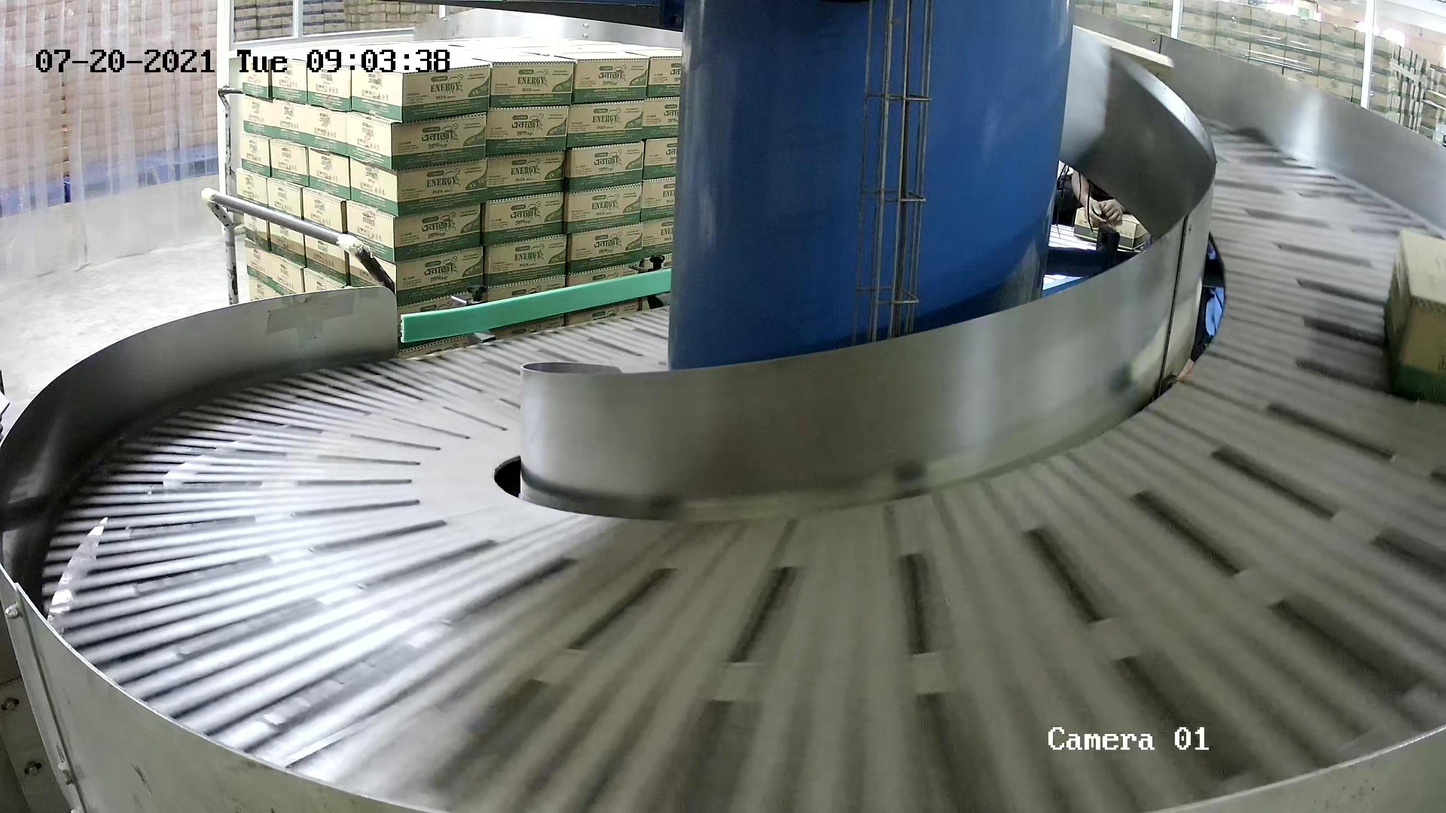Box: (1383, 227, 1446, 401)
